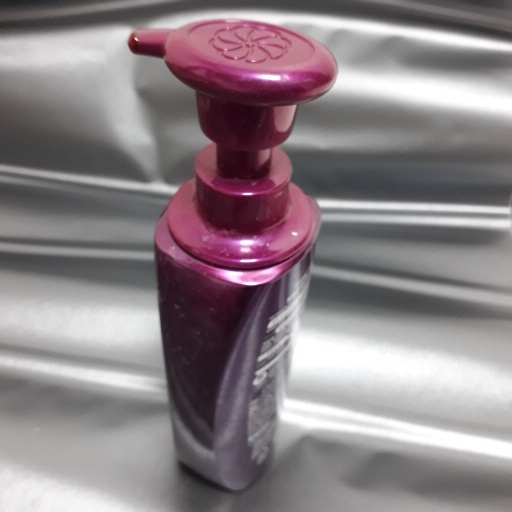Plastic_3: (124, 16, 339, 489)
